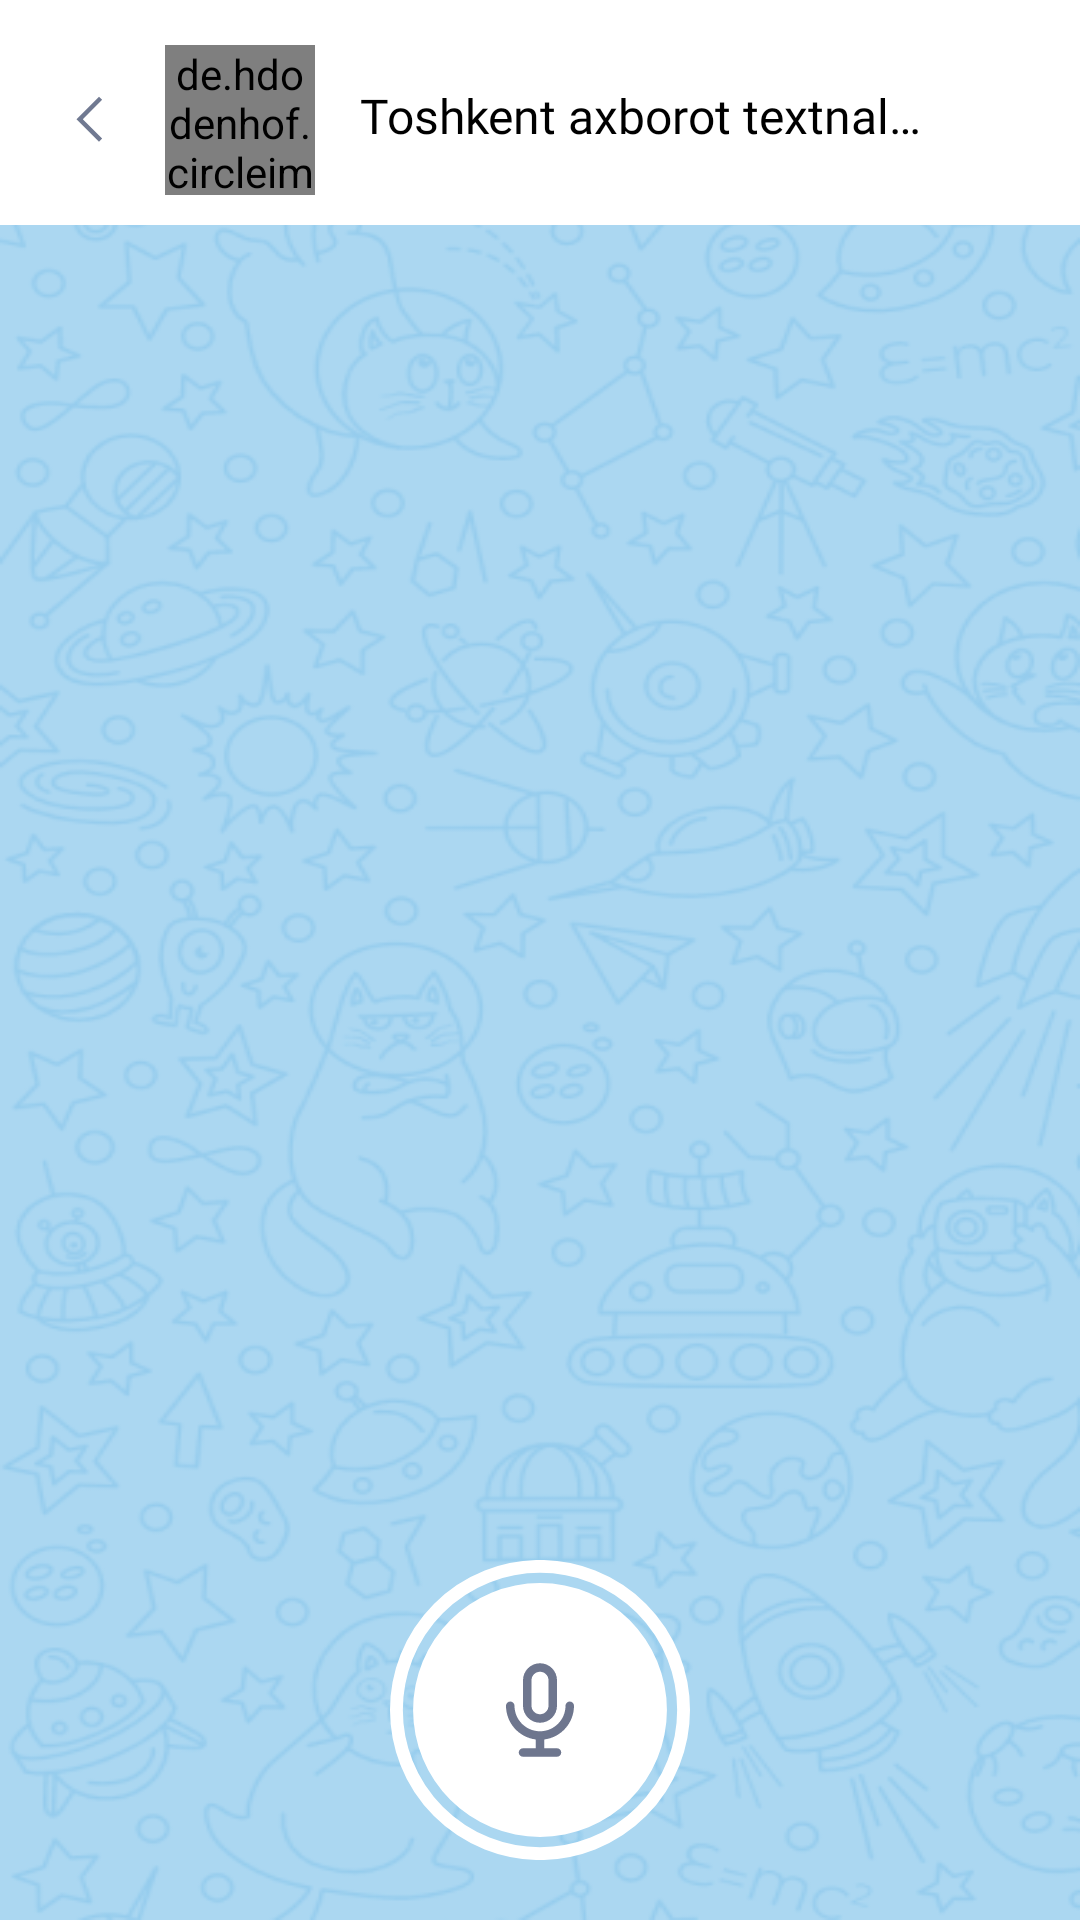

Where icons sit on this 1080×1920 app screen, as [left=x1, top=y1, right=x2, bottom=y2]:
backbtn: [left=76, top=97, right=102, bottom=142]
voic bluee: [left=390, top=1560, right=690, bottom=1860]
